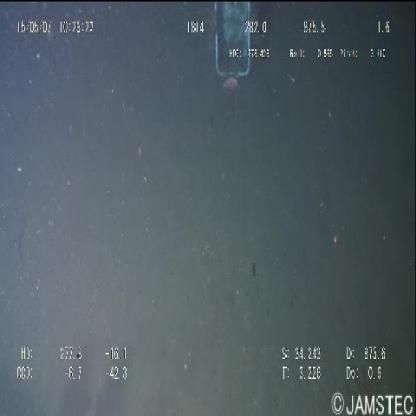Rác: (211, 2, 253, 86)
